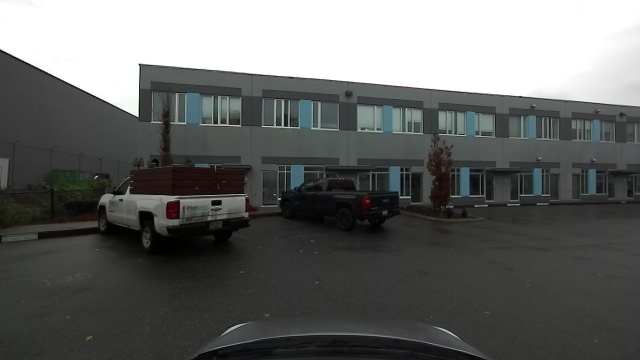car: (98, 167, 254, 247), (280, 180, 400, 227)
